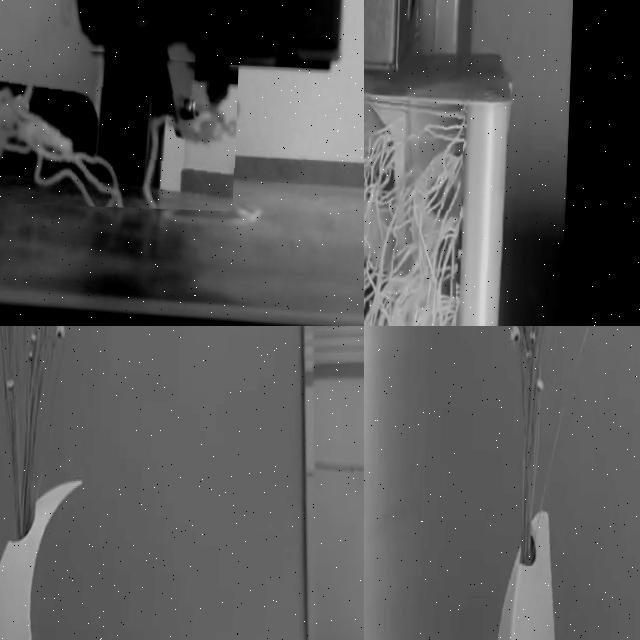spaghetti: (0, 85, 236, 208), (364, 89, 465, 326)
